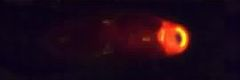keyhole: (174, 30, 186, 47)
